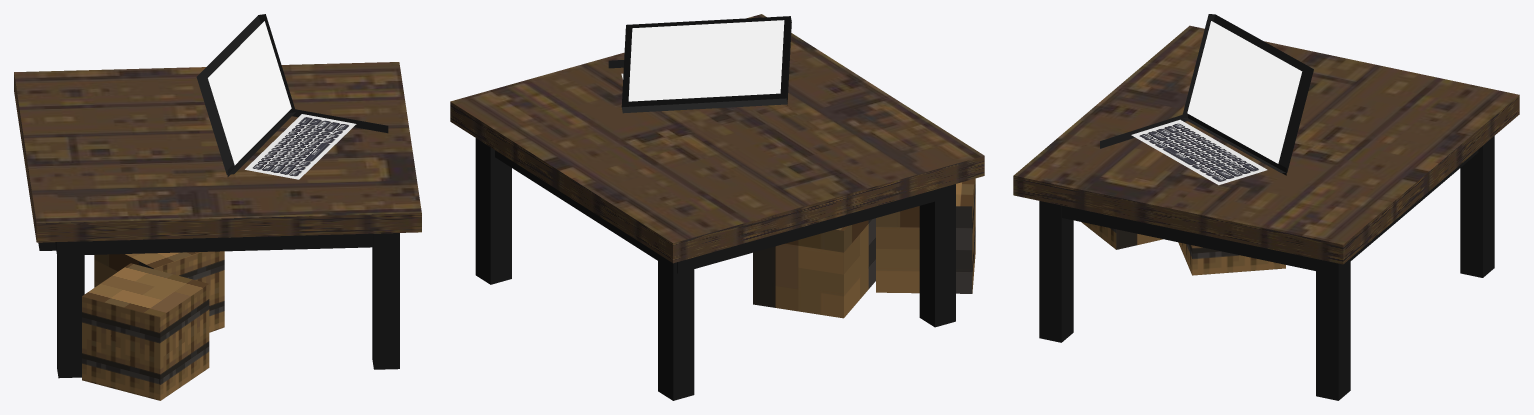
Rendered from laptopTable.glb.
3 views of the same model, side by side, from view 1: azimuth 30°, elevation 25°; view 2: azimuth 150°, elevation 25°; view 3: azimuth 270°, elevation 25° (orthographic). The views are drawn at different scales.
Parts seen in each view (by area): view 1: pixel-art-set-computer-keyboard-illustration_1131527-5; view 2: pixel-art-set-computer-keyboard-illustration_1131527-5; view 3: pixel-art-set-computer-keyboard-illustration_1131527-5.
Part boxes in pixels (<box>): pixel-art-set-computer-keyboard-illustration_1131527-5: <box>14,14,421,400</box>; pixel-art-set-computer-keyboard-illustration_1131527-5: <box>450,14,984,400</box>; pixel-art-set-computer-keyboard-illustration_1131527-5: <box>1013,14,1519,400</box>.
Size of the model in its own units: 3.78 by 2.15 by 3.69.
8 materials, 4 textured.
